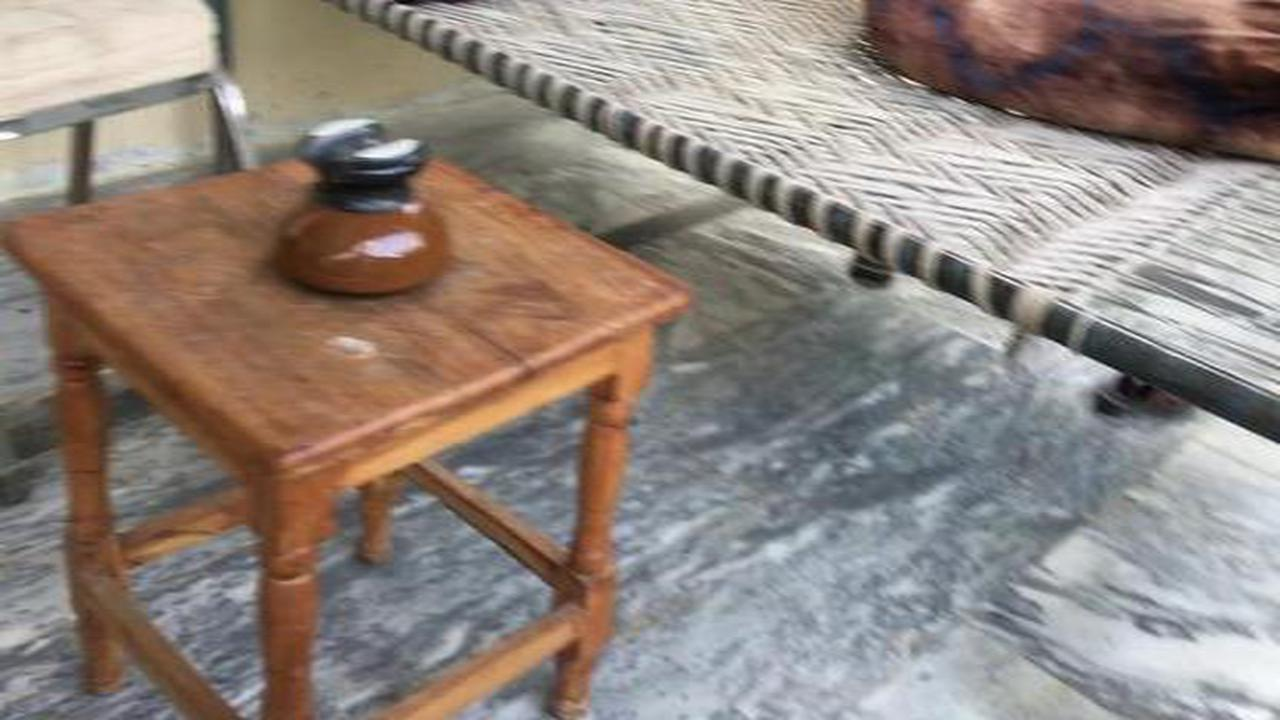insulator_pin: (259, 99, 487, 316)
